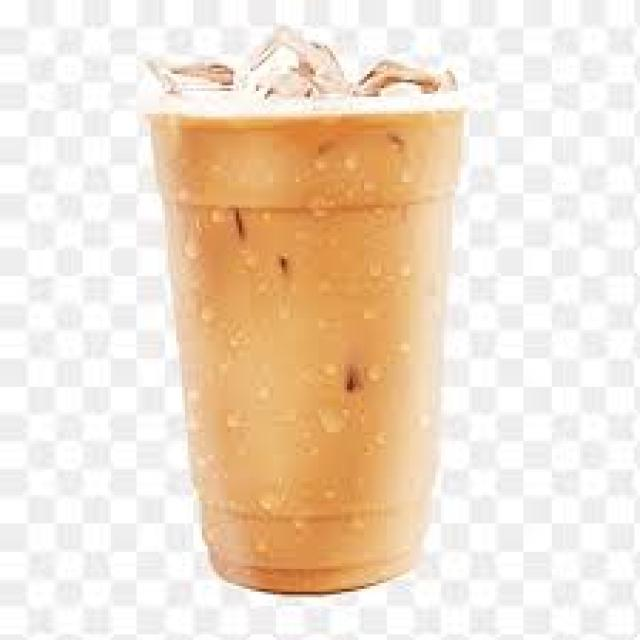bottle: (142, 105, 462, 592)
